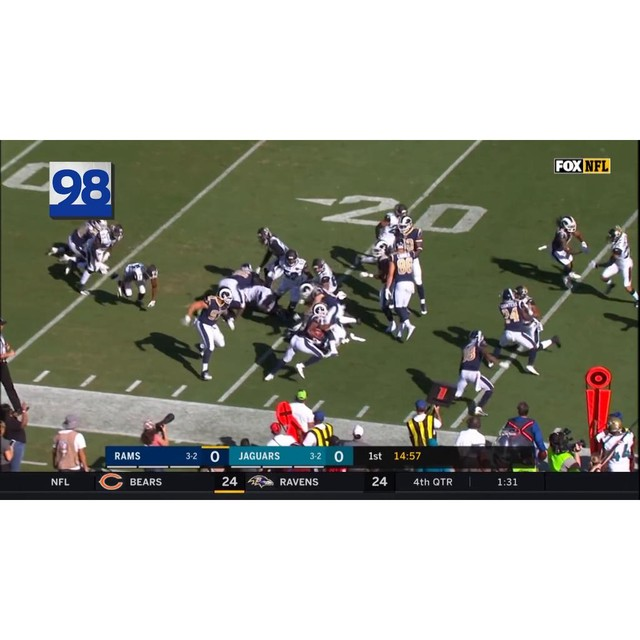american-football-player: (181, 285, 235, 381), (299, 279, 356, 354), (278, 302, 332, 381), (452, 330, 497, 418), (494, 289, 540, 375), (596, 227, 640, 308), (540, 216, 588, 289), (514, 287, 564, 356), (76, 221, 123, 294), (400, 218, 431, 316), (48, 219, 109, 268), (268, 248, 309, 316), (113, 262, 159, 311), (255, 226, 293, 278), (312, 258, 349, 301)
referee: (0, 312, 24, 414)
